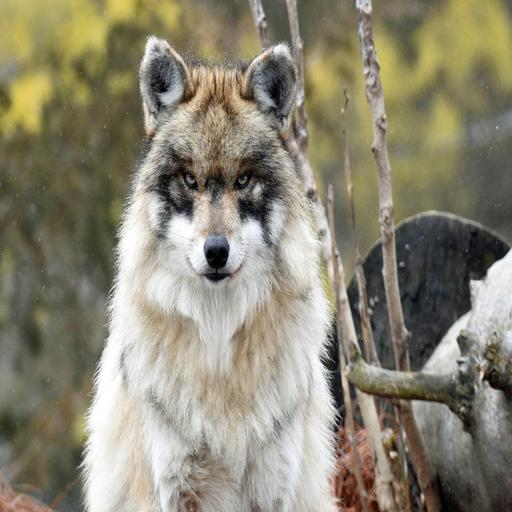Wolf: (79, 36, 338, 510)
